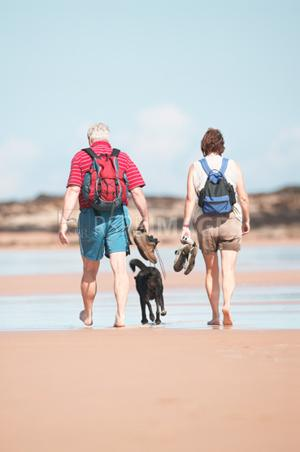person: (60, 124, 149, 329)
